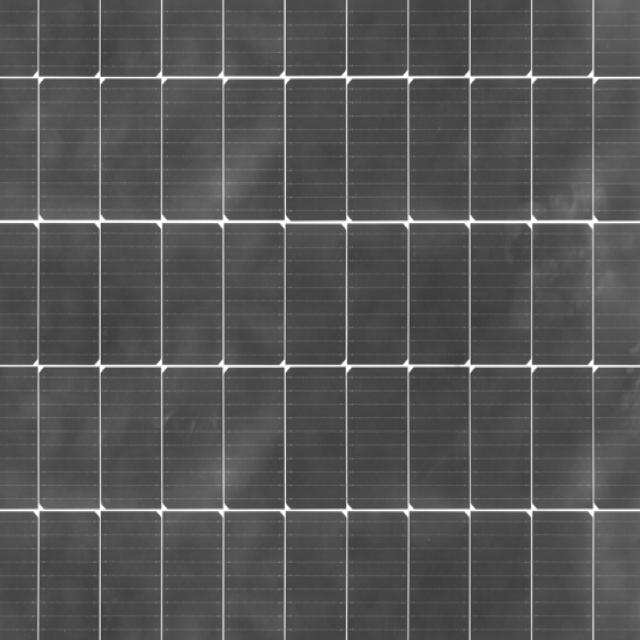CORRECT: (268, 2, 640, 640), (0, 0, 340, 640)
